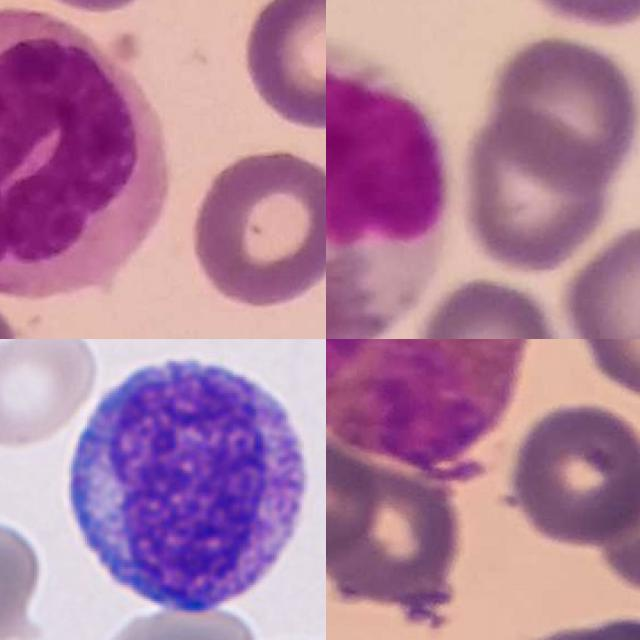Eosinophil: (326, 37, 450, 339), (326, 339, 536, 465)
Lymphocyte: (55, 342, 322, 628)
Monocyte: (0, 4, 170, 300)
RBC: (0, 339, 101, 451), (94, 595, 259, 640), (0, 515, 51, 640)
